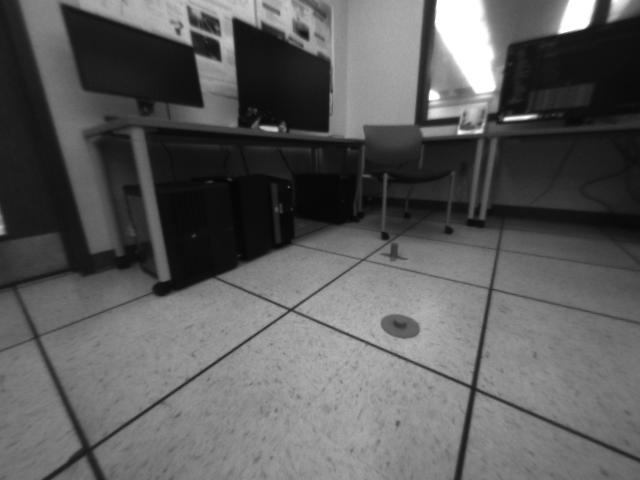X: (379, 242, 411, 263)
